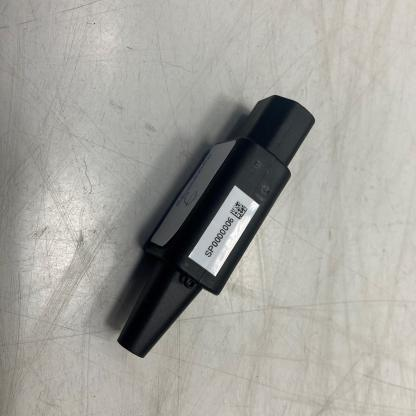SP0000006: (83, 57, 353, 381)
